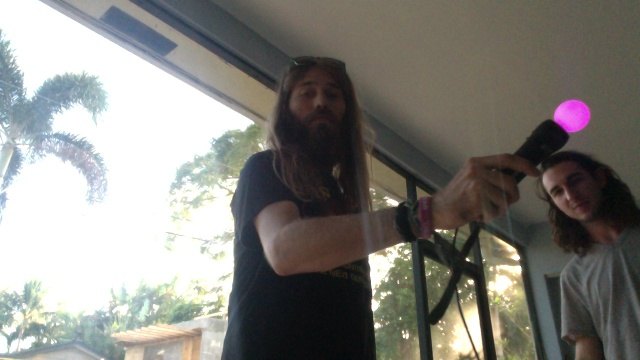wand: (554, 102, 591, 133)
